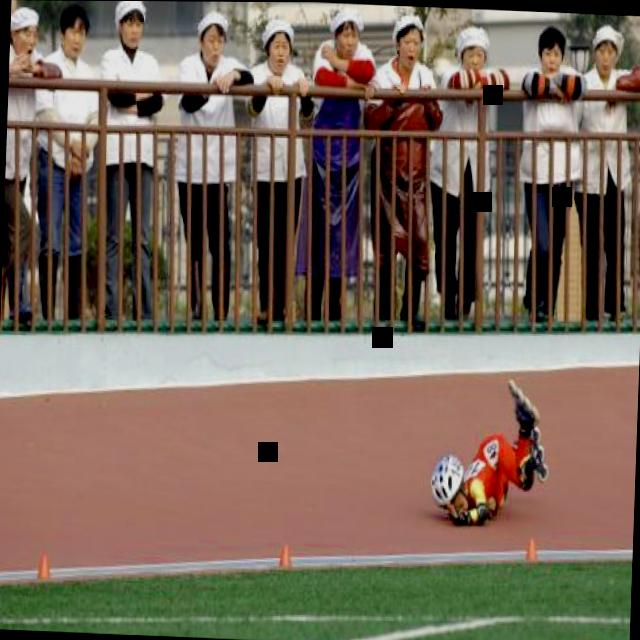Fall-Detected: (416, 347, 565, 551)
